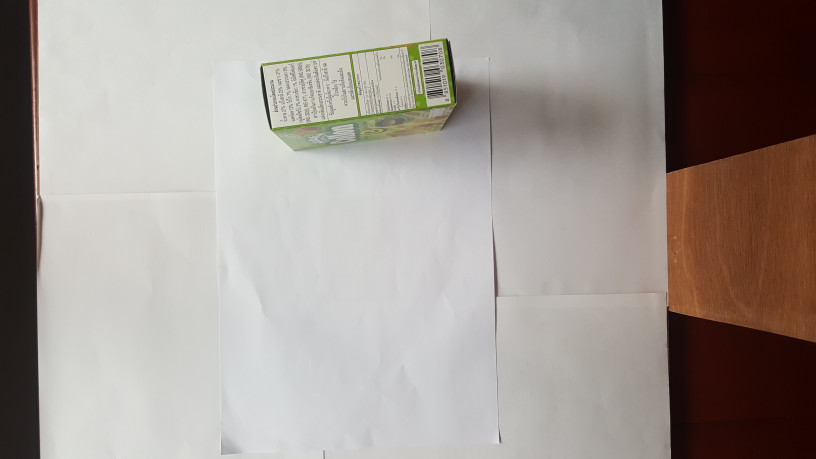collon-matcha: (260, 39, 458, 153)
